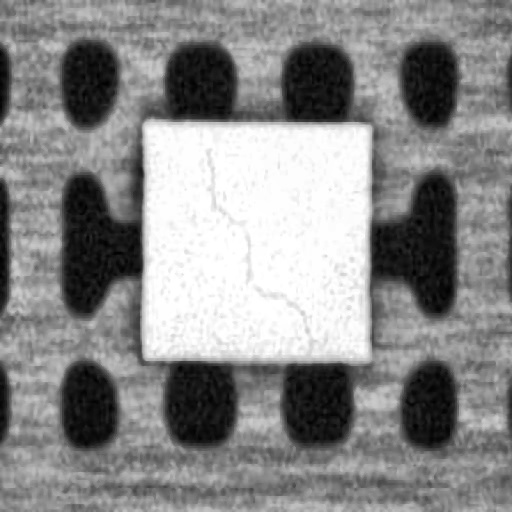DIE_CRACK: (200, 146, 310, 329)
